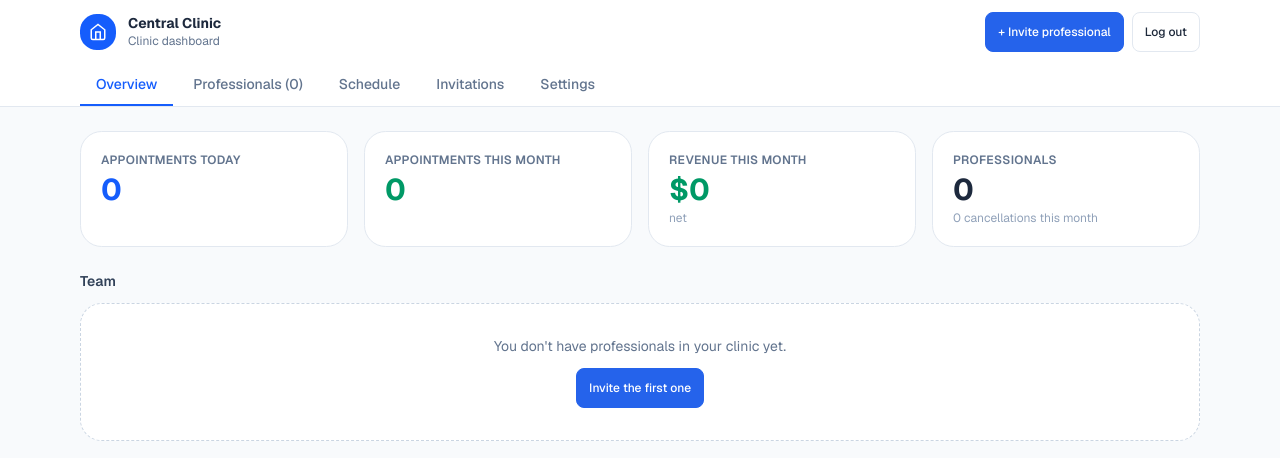
Test: ClinicaDashboard › renders invitation statuses and shows fallback cancellation errors
The width and height of the screenshot is (1280, 458).
Expected: the text "Clinic dashboard" is shown, [128,33,221,49]
What coordinates should you click on to do the following:
click the button "Invitations"
I would click on:
 (470, 85)
Its box is [420,64,520,106].
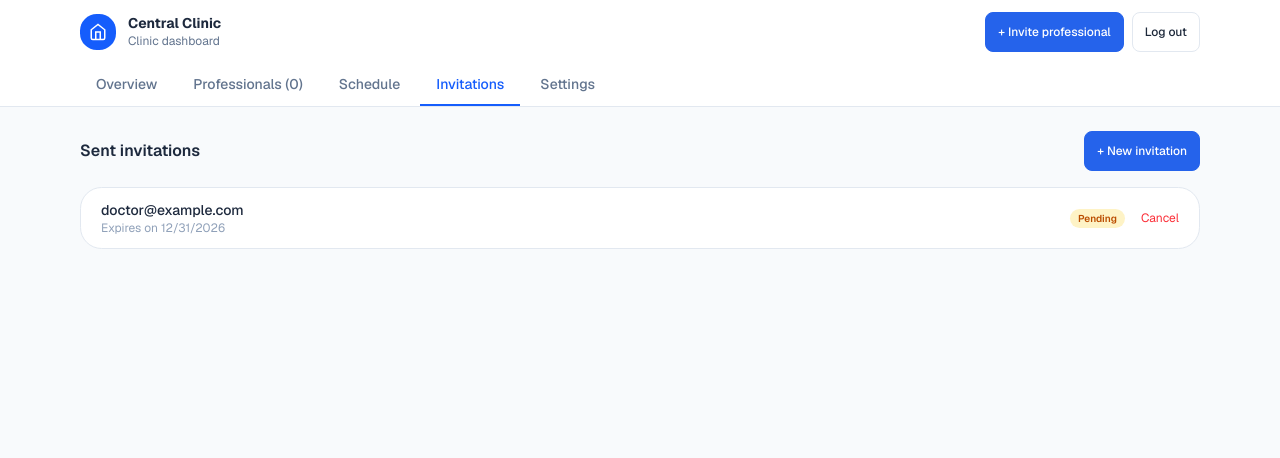
Result: the text "Pending" is shown at [1070,208,1125,228]
What coordinates should you click on to do the following:
click the button "Cancel"
I would click on:
 (1160, 218)
Its box is [1141,210,1179,226].
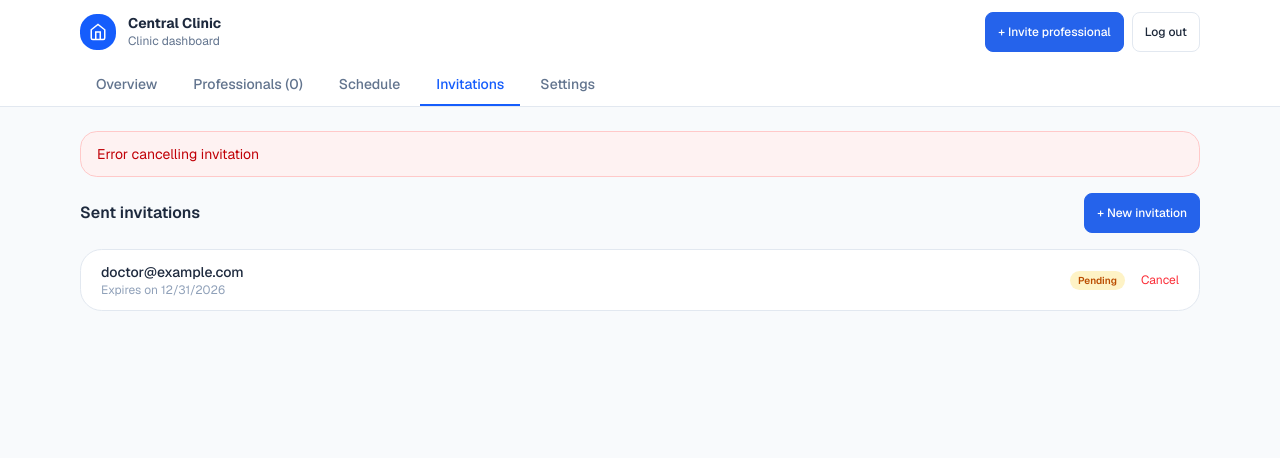
Result: the text "Error cancelling invitation" is shown at [80,131,1200,177]
